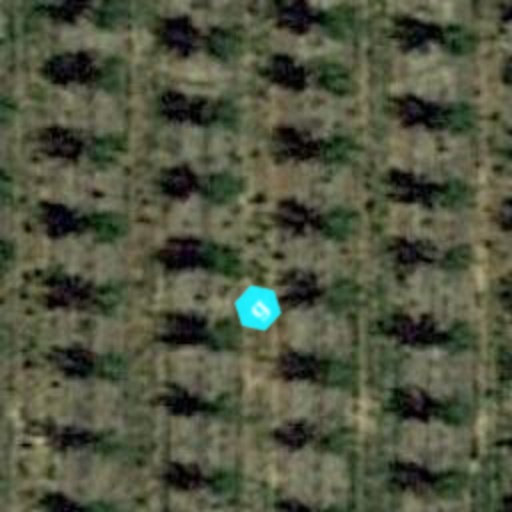hexagon: (224, 274, 292, 342)
